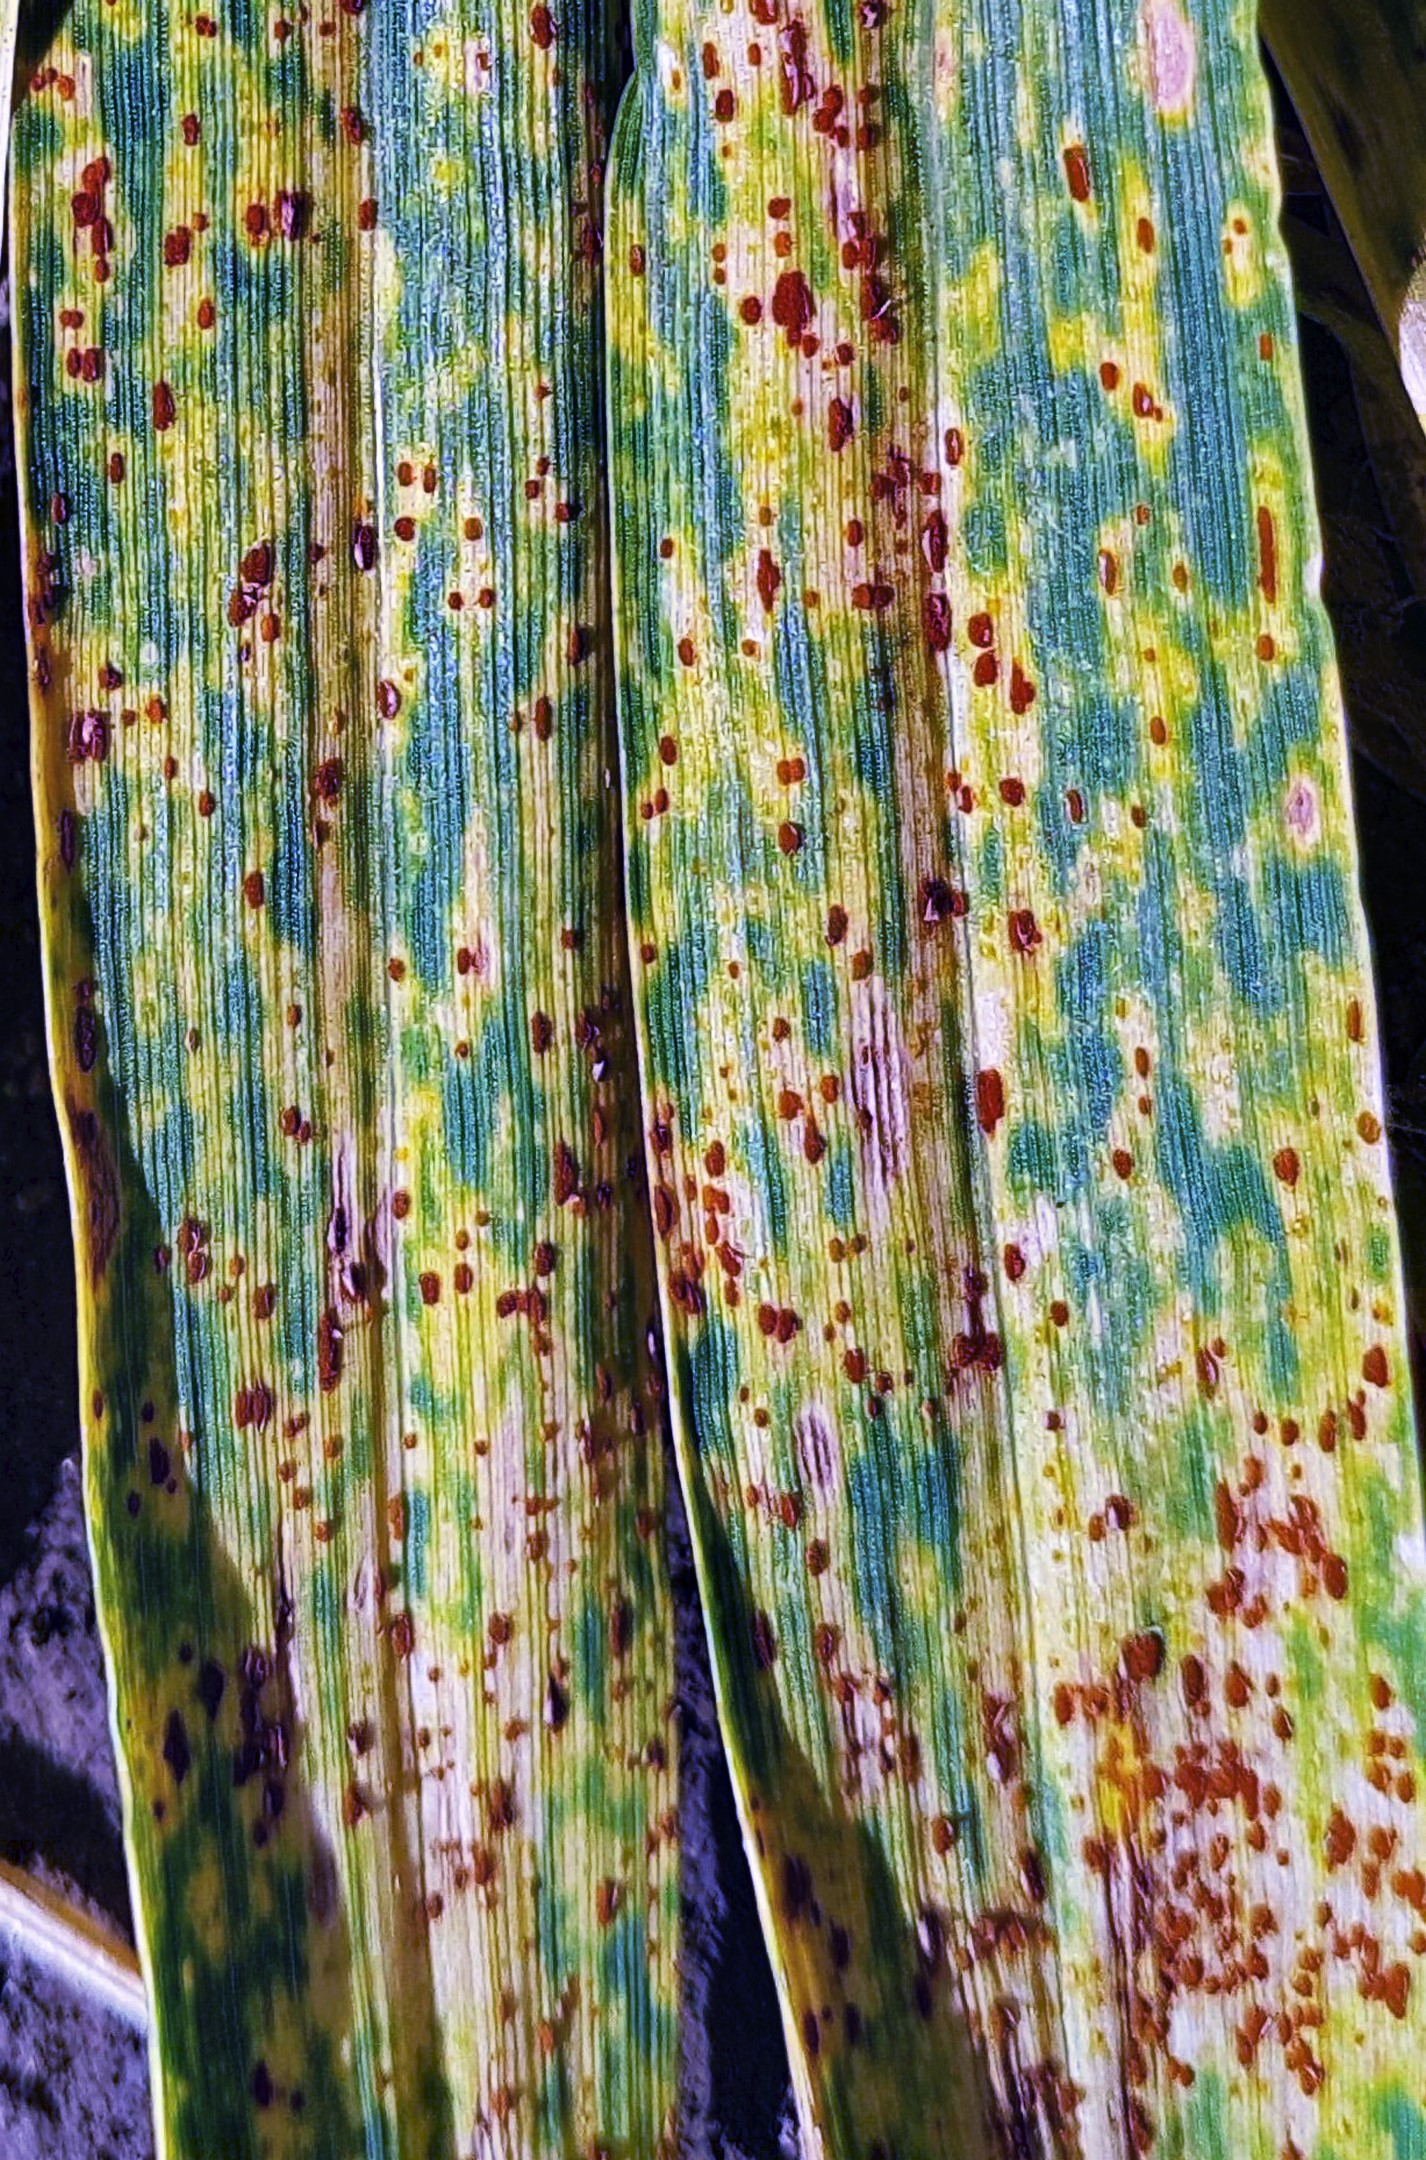Leaf Rust: (13, 94, 1426, 2049)
